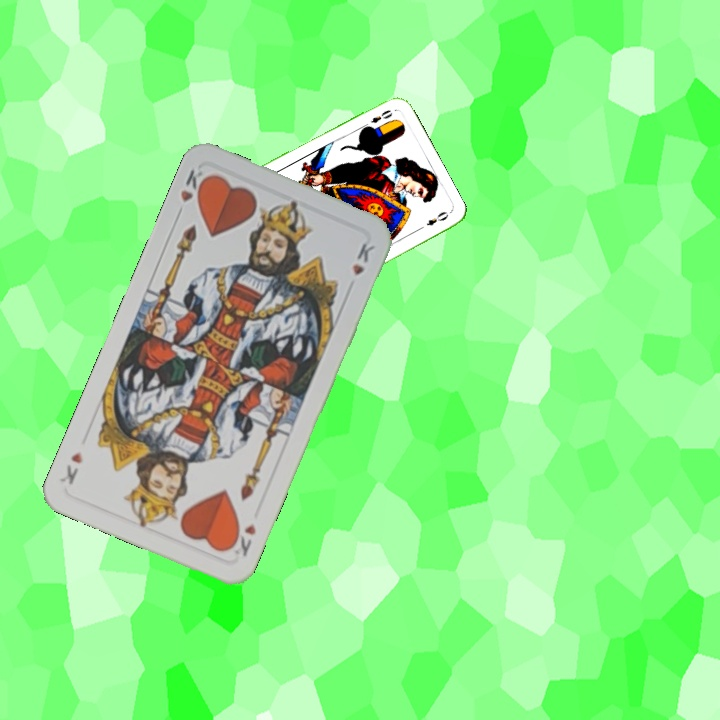EO: (358, 106, 396, 131)
HK: (172, 164, 212, 220), (225, 520, 259, 559)
